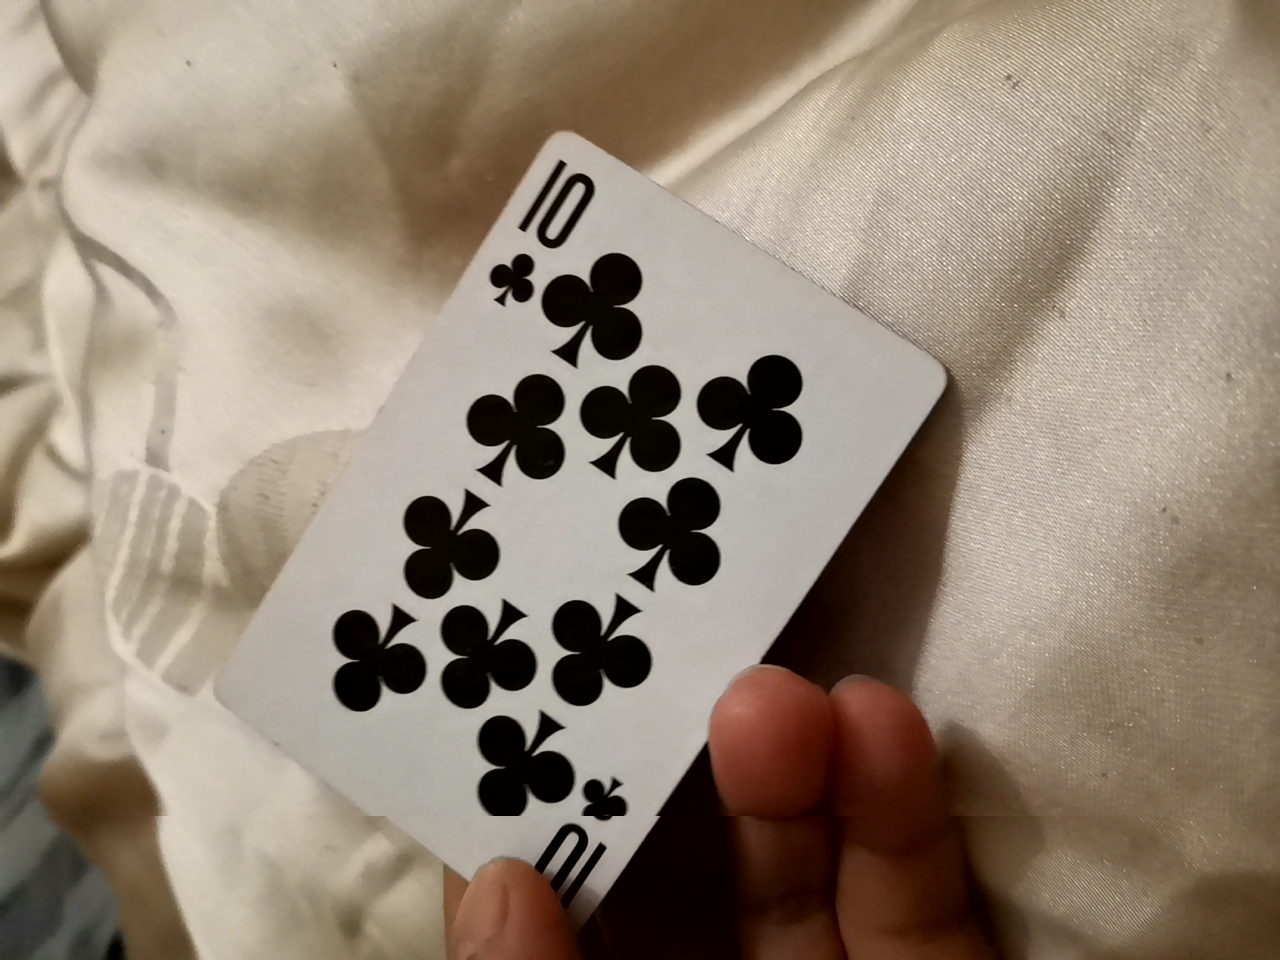mh 10: (228, 109, 932, 917)
